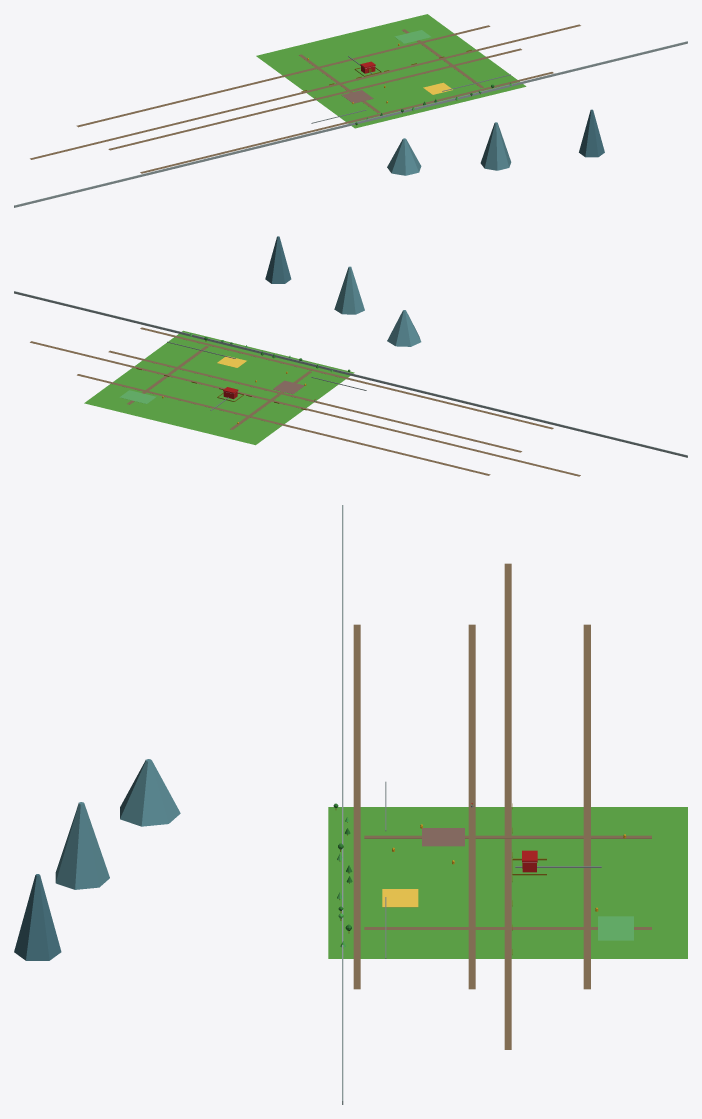
Rendered from sector_r3_c2.glb.
3 renders of one model, top to bottom at view 1: azimuth 30°, elevation 25°; view 2: azimuth 150°, elevation 25°; view 3: azimuth 270°, elevation 25°, orthographic. The views are drawn at different scales.
Parts seen in each view (by area): view 1: GROUND_r3_c2, WALL_Boundary_S, GROUND_Outskirts_Dirt_Main, ROAD_Dirt_27, ROAD_Dirt_28, ROAD_Dirt_26, MOUNTAIN_31, MOUNTAIN_30, MOUNTAIN_32; view 2: GROUND_r3_c2, WALL_Boundary_S, GROUND_Outskirts_Dirt_Main, ROAD_Dirt_26, ROAD_Dirt_28, ROAD_Dirt_27, MOUNTAIN_31, MOUNTAIN_30, MOUNTAIN_32; view 3: GROUND_r3_c2, GROUND_Outskirts_Dirt_Main, ROAD_Dirt_26, ROAD_Dirt_27, ROAD_Dirt_28, MOUNTAIN_31, MOUNTAIN_30, MOUNTAIN_32, WALL_Boundary_S, ROAD_Dirt_32, GROUND_CropField_4.
Boxes of the visible parts, x1,y1,x2,y2 form: GROUND_r3_c2: [256, 14, 526, 128]; WALL_Boundary_S: [14, 41, 687, 207]; GROUND_Outskirts_Dirt_Main: [30, 24, 580, 159]; ROAD_Dirt_27: [108, 48, 521, 150]; ROAD_Dirt_28: [76, 25, 490, 127]; ROAD_Dirt_26: [140, 72, 553, 173]; MOUNTAIN_31: [480, 122, 511, 170]; MOUNTAIN_30: [387, 138, 421, 175]; MOUNTAIN_32: [579, 109, 604, 157]; GROUND_r3_c2: [84, 330, 354, 445]; WALL_Boundary_S: [14, 291, 687, 457]; GROUND_Outskirts_Dirt_Main: [30, 341, 580, 476]; ROAD_Dirt_26: [140, 327, 553, 429]; ROAD_Dirt_28: [77, 374, 490, 475]; ROAD_Dirt_27: [108, 350, 521, 452]; MOUNTAIN_31: [334, 266, 364, 314]; MOUNTAIN_30: [387, 310, 421, 346]; MOUNTAIN_32: [265, 236, 291, 283]; GROUND_r3_c2: [328, 807, 687, 958]; GROUND_Outskirts_Dirt_Main: [504, 563, 511, 1049]; ROAD_Dirt_26: [353, 624, 360, 989]; ROAD_Dirt_27: [468, 624, 475, 989]; ROAD_Dirt_28: [583, 624, 590, 989]; MOUNTAIN_31: [55, 802, 109, 889]; MOUNTAIN_30: [120, 759, 180, 826]; MOUNTAIN_32: [14, 874, 61, 960]; WALL_Boundary_S: [342, 505, 343, 1104]; ROAD_Dirt_32: [364, 835, 651, 838]; GROUND_CropField_4: [598, 916, 633, 940].
Bounding box in the file's own units: 980 × 59.22 × 469.
